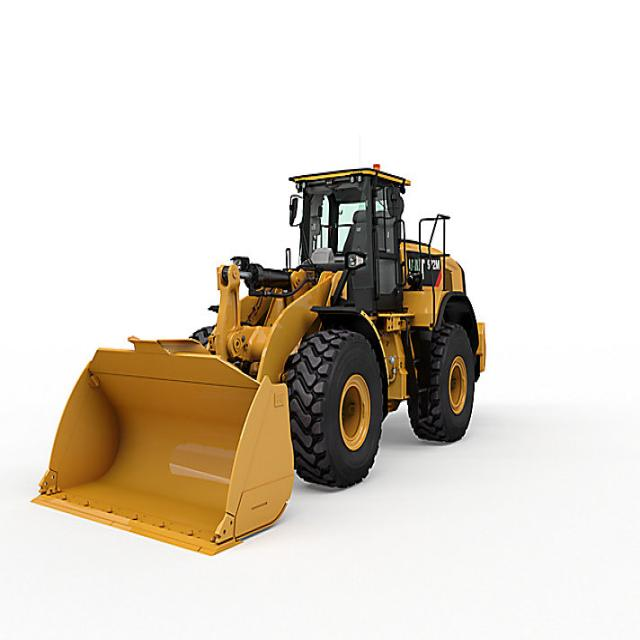buldozerpayloadergrader: (28, 164, 489, 561)
